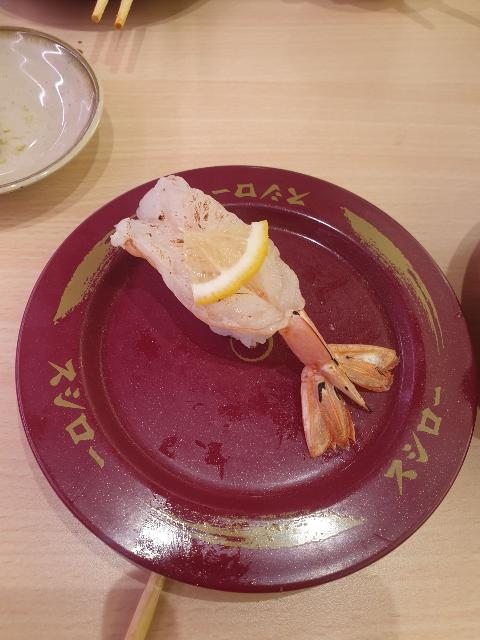janred: (43, 163, 473, 563)
